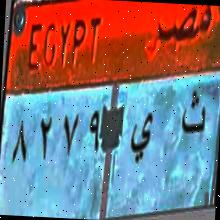2: (32, 112, 55, 172)
7: (59, 109, 80, 165)
8: (9, 115, 30, 174)
9: (85, 104, 103, 162)
thaa: (176, 89, 208, 149)
yaa: (127, 108, 157, 170)
